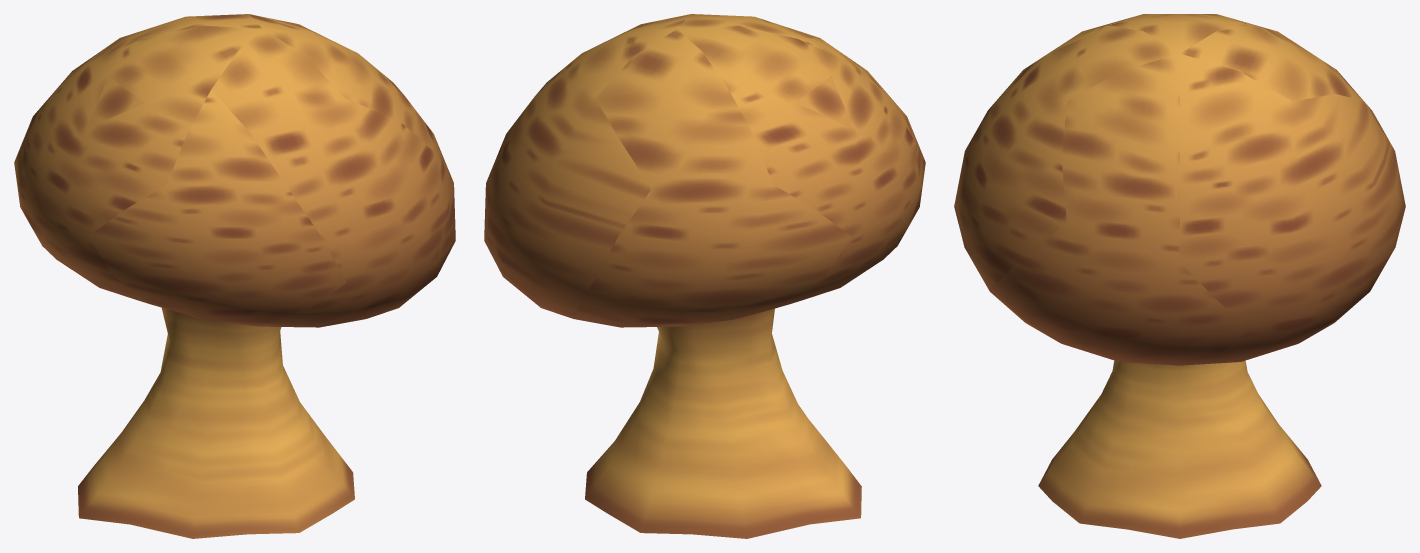
Rendered from mush1.obj.
3 renders of one model, left to right at view 1: azimuth 30°, elevation 25°; view 2: azimuth 150°, elevation 25°; view 3: azimuth 270°, elevation 25°, orthographic.
Parts seen in each view (by area): view 1: ColobotMesh_1_ColobotMesh_; view 2: ColobotMesh_1_ColobotMesh_; view 3: ColobotMesh_1_ColobotMesh_.
Part boxes in pixels (box(x1,y1,x2,y2)): ColobotMesh_1_ColobotMesh_: box(14, 14, 455, 538); ColobotMesh_1_ColobotMesh_: box(484, 14, 925, 538); ColobotMesh_1_ColobotMesh_: box(954, 14, 1405, 538).
Size of the model in its own units: 9.89 by 10.99 by 10.
